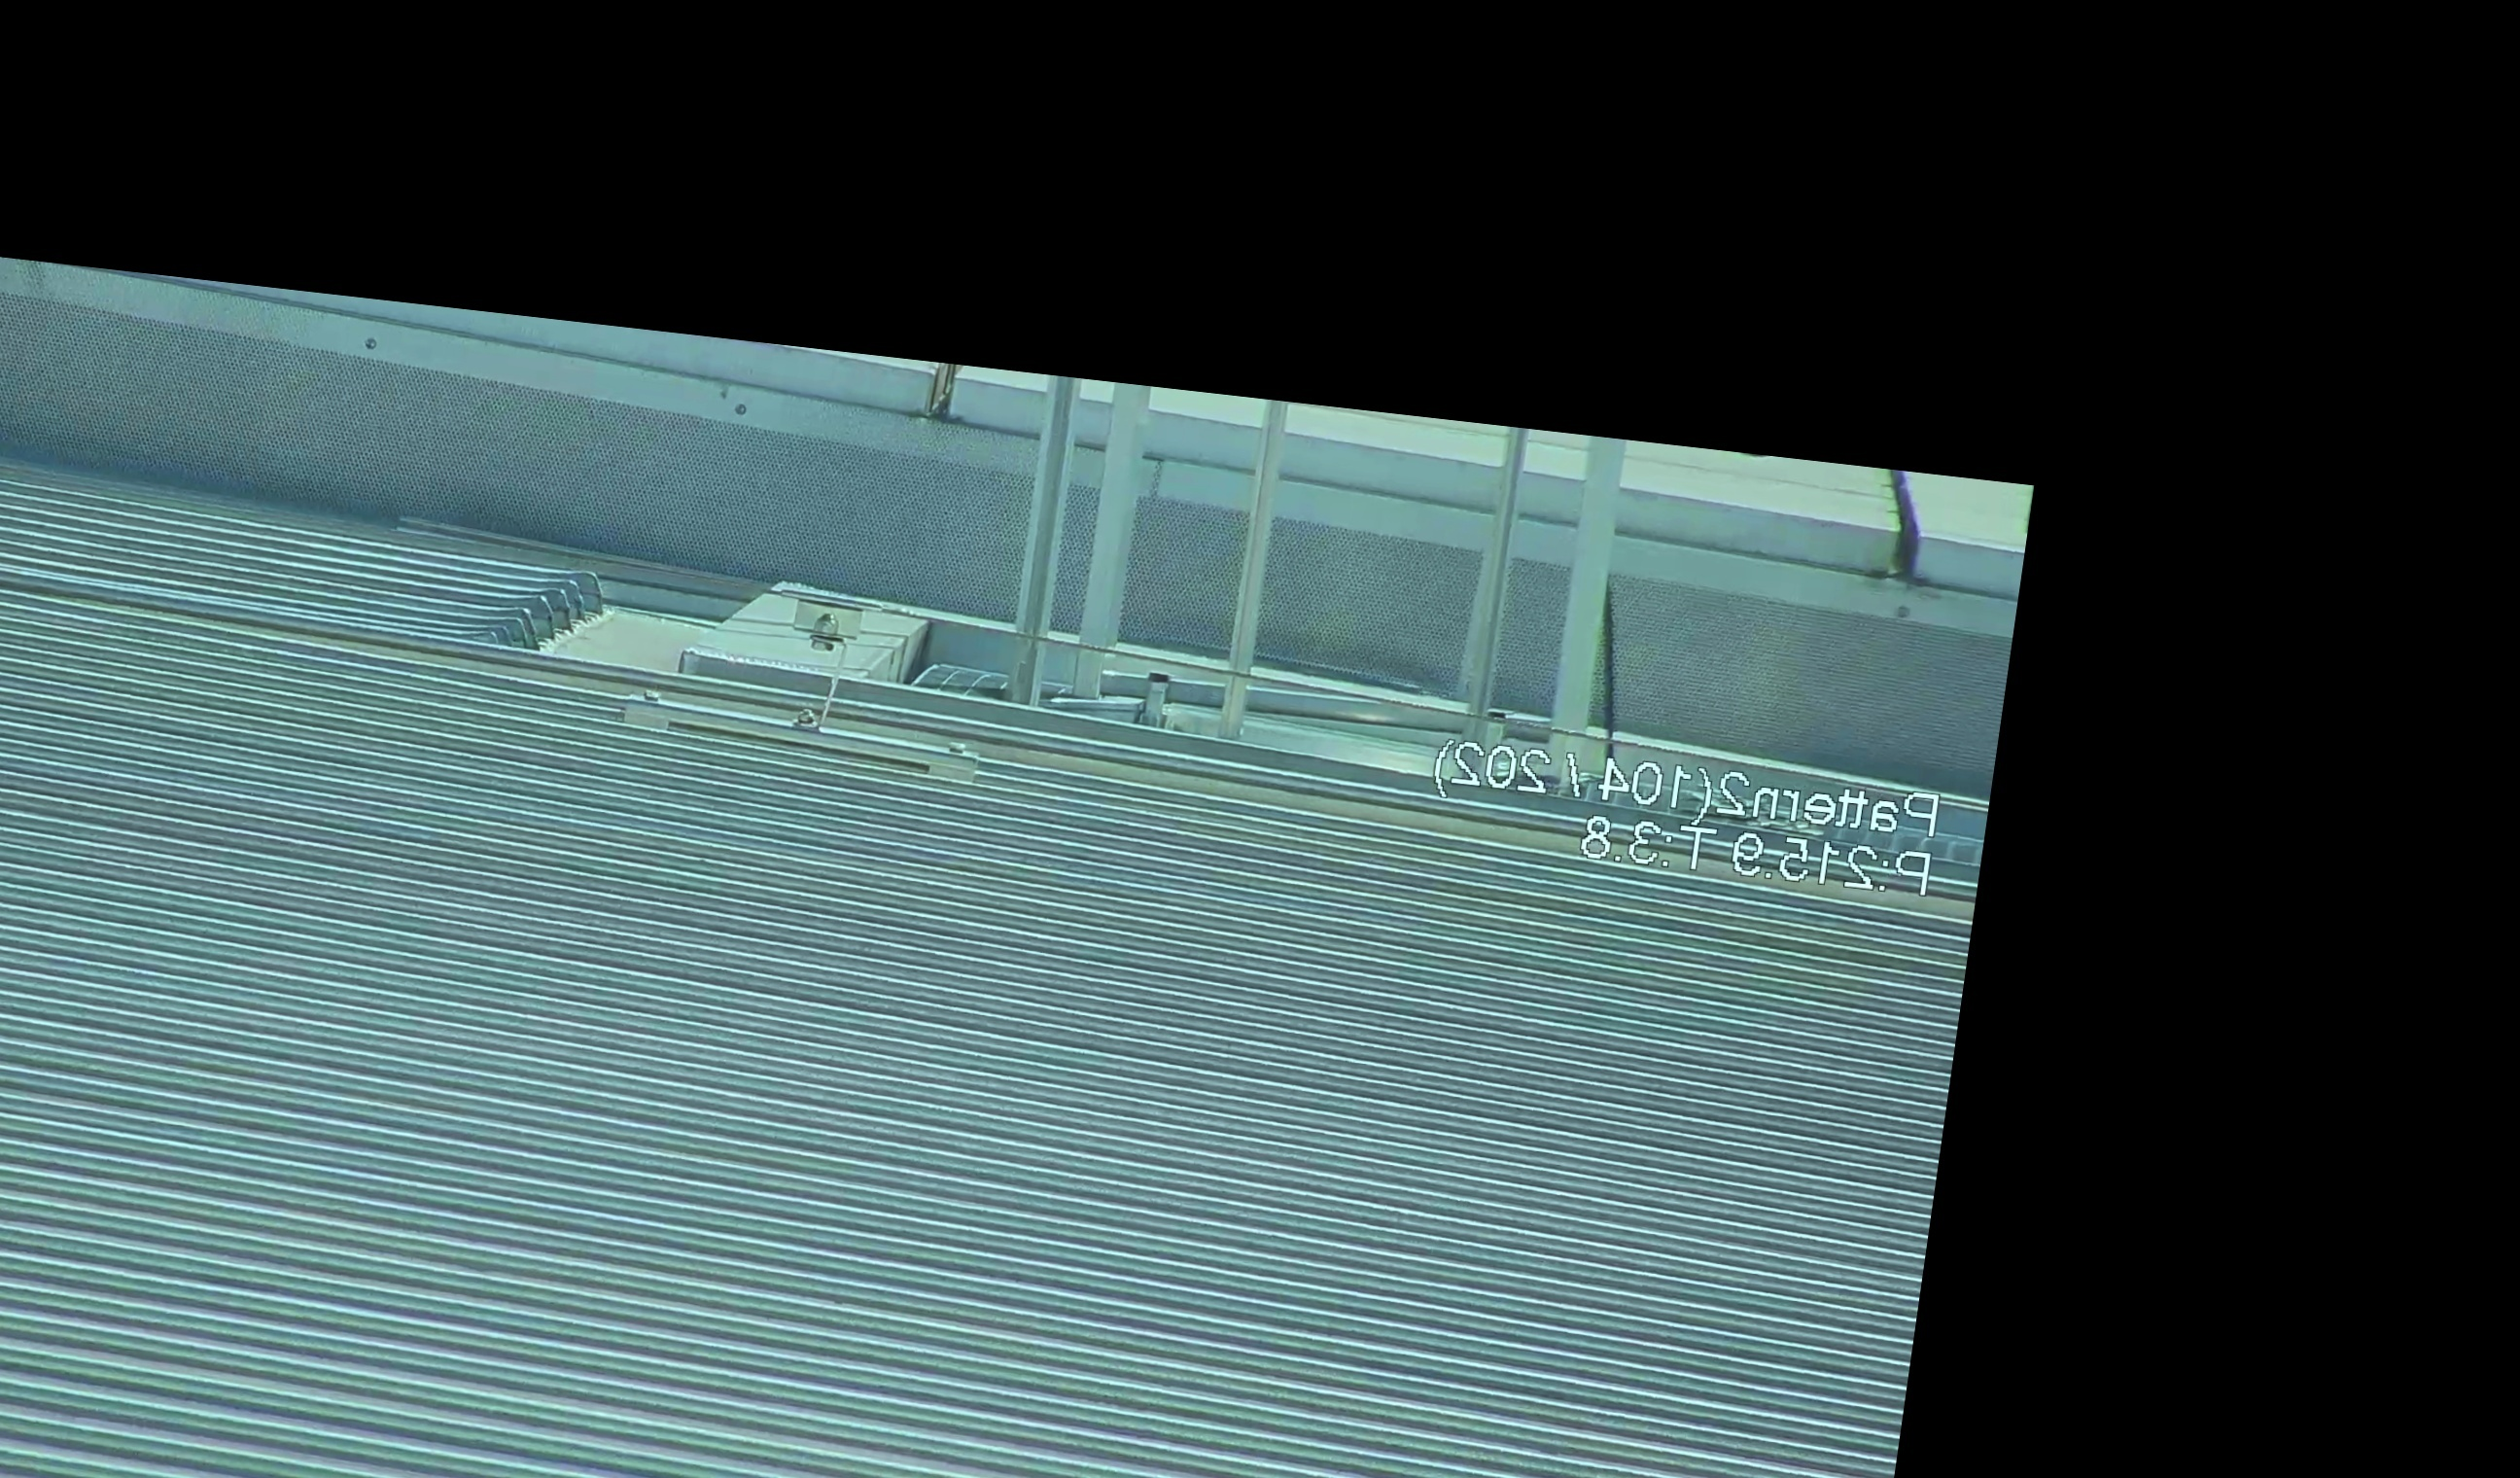Other: (1620, 317, 1834, 459)
